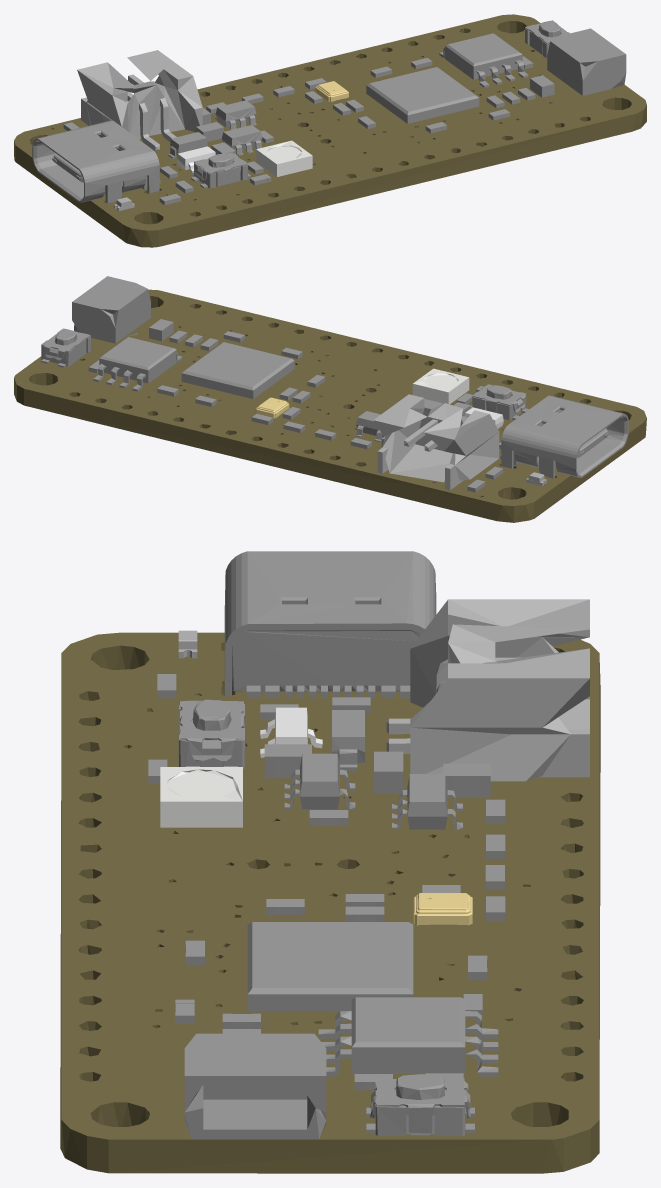
File: adafruit-4884-feather-rp2040.glb
The picture shows the model from 3 angles, top to bottom: view 1: azimuth 30°, elevation 25°; view 2: azimuth 150°, elevation 25°; view 3: azimuth 270°, elevation 25°; orthographic projection. The views are drawn at different scales.
Parts seen in each view (by area): view 1: colour 1, colour 2, colour 3, colour 4, colour 5, colour 6; view 2: colour 1, colour 2, colour 3, colour 4, colour 6; view 3: colour 1, colour 2, colour 3, colour 4, colour 6, colour 5.
Part boxes in pixels (x1,y1,x2,y2): colour 1: [14, 14, 646, 247]; colour 2: [32, 20, 626, 205]; colour 3: [54, 50, 202, 211]; colour 4: [256, 140, 312, 176]; colour 5: [177, 146, 215, 173]; colour 6: [315, 81, 348, 101]; colour 1: [14, 289, 646, 522]; colour 2: [41, 276, 628, 492]; colour 3: [373, 394, 606, 490]; colour 4: [412, 368, 469, 404]; colour 6: [255, 397, 289, 418]; colour 1: [60, 632, 600, 1173]; colour 2: [148, 551, 505, 1139]; colour 3: [178, 599, 589, 781]; colour 4: [160, 767, 242, 827]; colour 6: [413, 893, 472, 925]; colour 5: [260, 707, 322, 757].
Bounding box in the file's own units: 0.0519 × 0.00637 × 0.0229.
